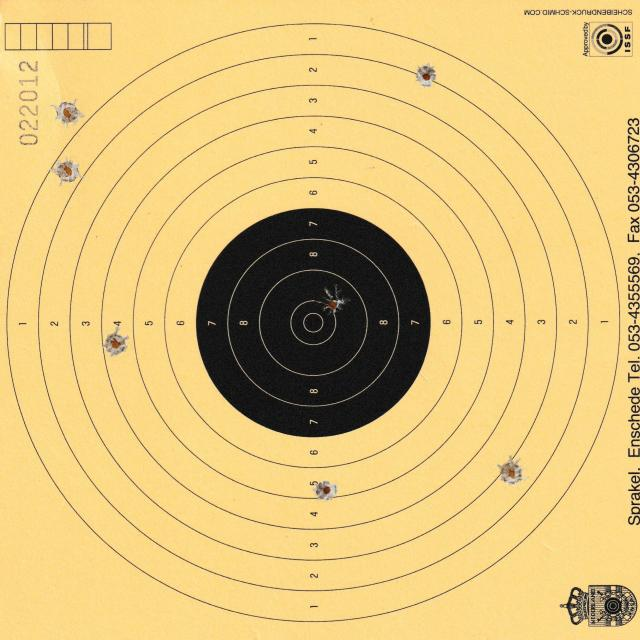0: (50, 98, 84, 126)
10: (321, 289, 347, 315)
2: (52, 158, 86, 186), (415, 63, 439, 89)
3: (496, 454, 530, 486)
4: (100, 330, 130, 358)
5: (312, 481, 339, 500)
Target: (2, 21, 624, 623)
black_contour: (197, 208, 431, 438)
